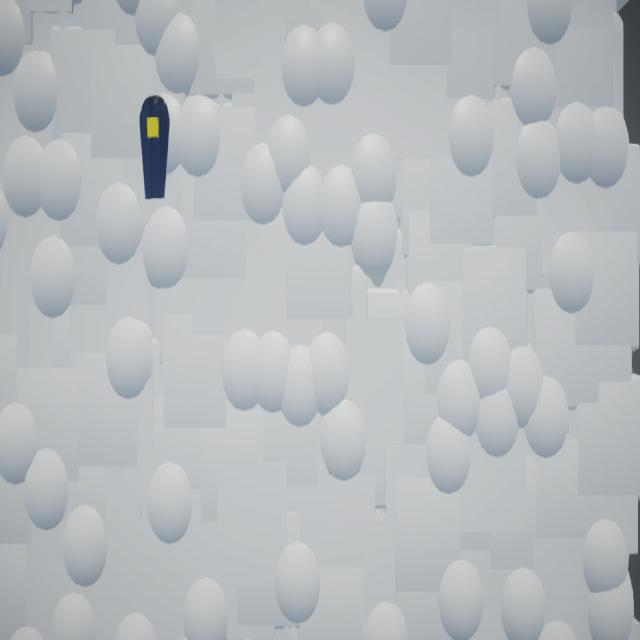handle_folk: (140, 97, 171, 201)
